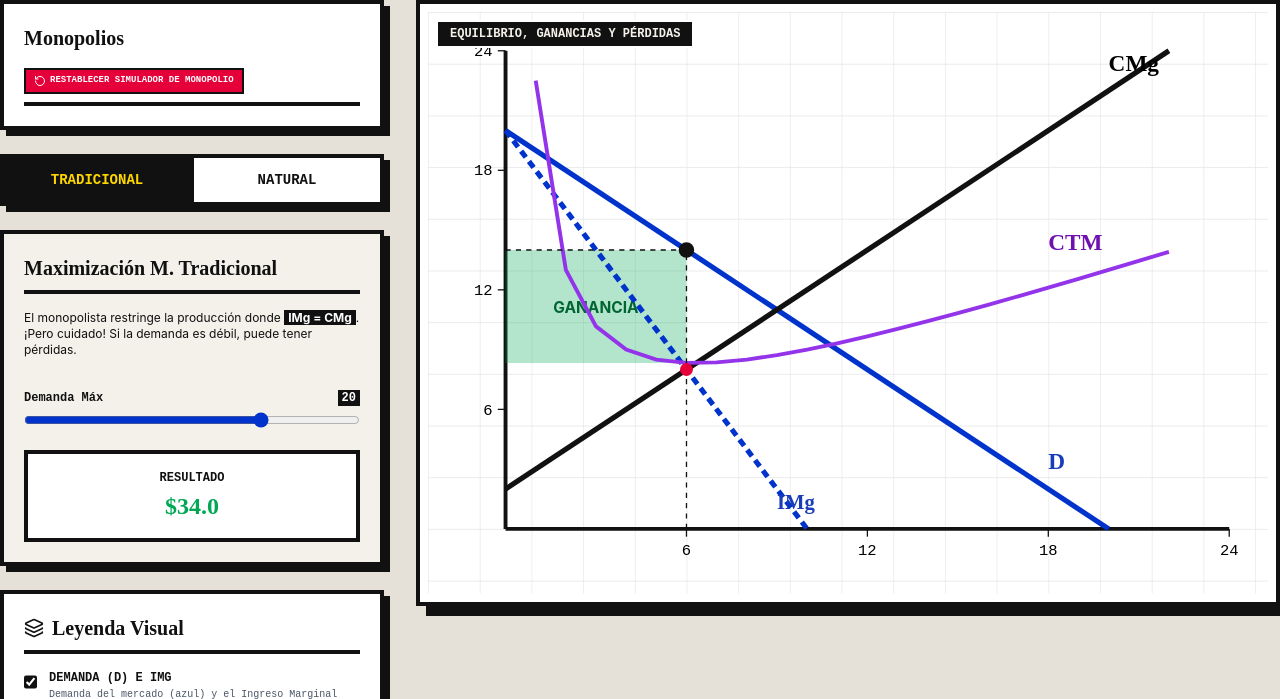
it: Monopolio integration › resets controls to defaults
Click the button "Natural": (285,180) [190,158,380,202]
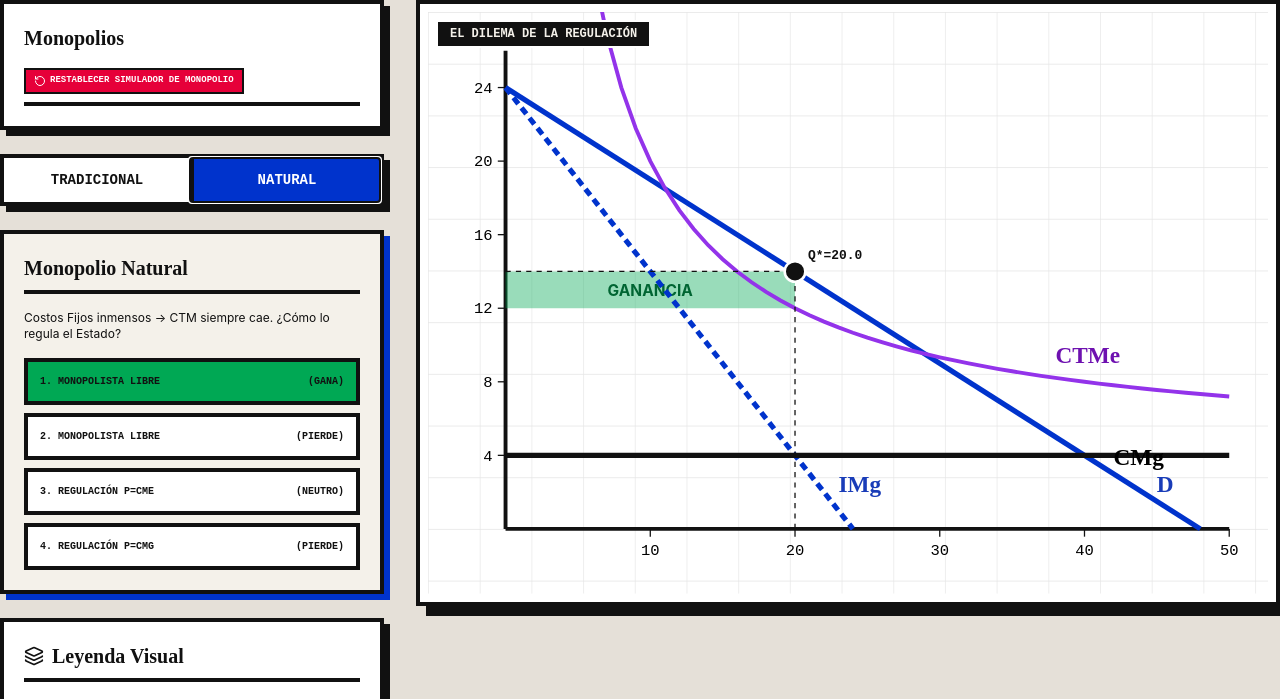
Click the text "3. Regulación P=CMe": (97,491) [40,484,154,498]
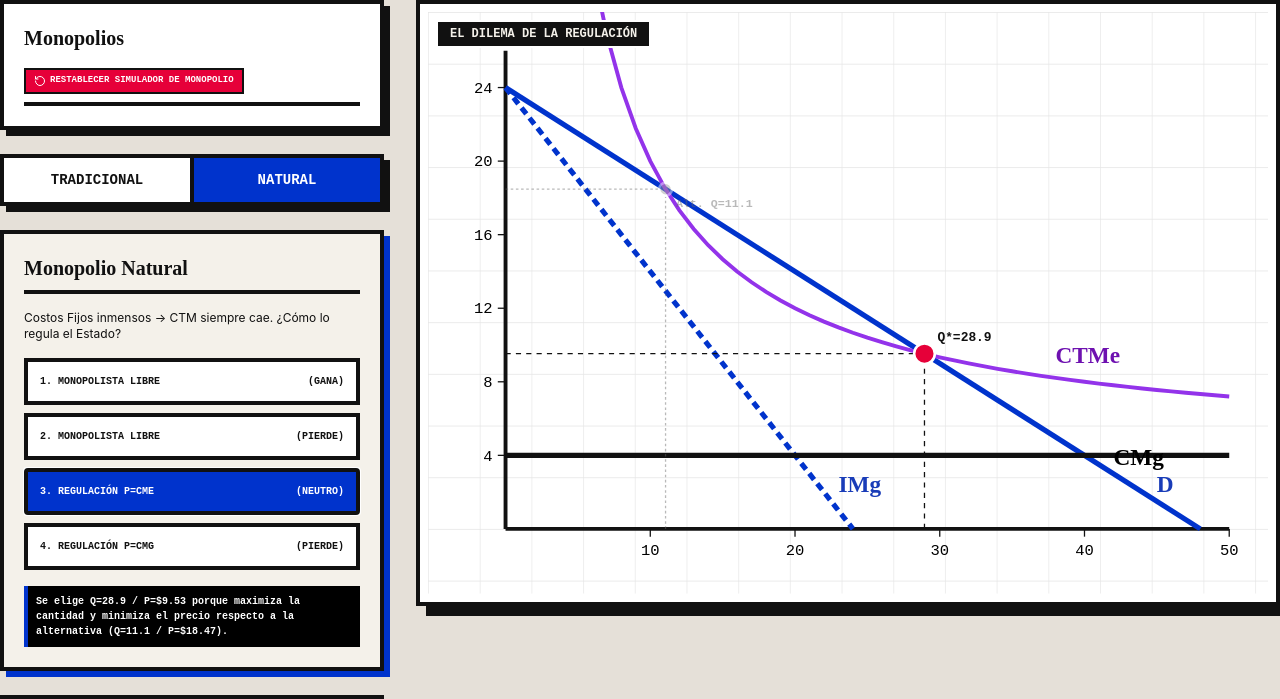
Click the button labelled "Restablecer simulador de monopolio": (134,81) [24,68,244,94]
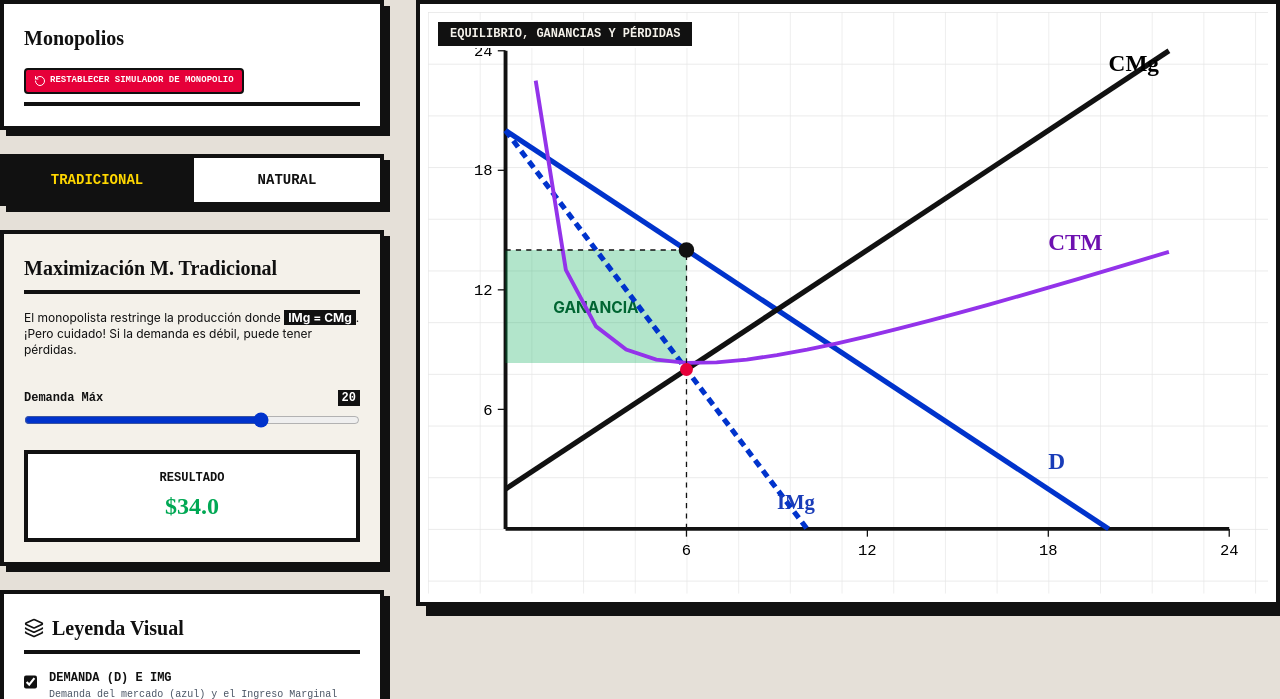
Expected: the heading "Maximización M. Tradicional" is shown, [24,254,360,294]
Expected: the slider holds "20", [24,412,360,428]
